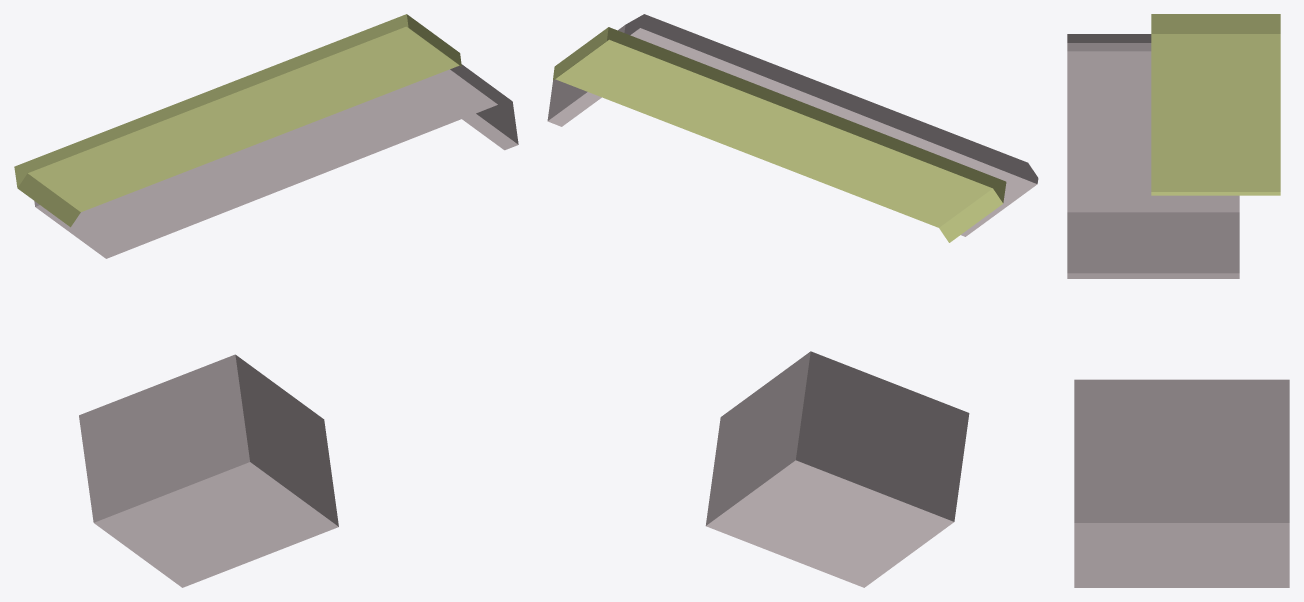
3 renders of one model, left to right at view 1: azimuth 30°, elevation 25°; view 2: azimuth 150°, elevation 25°; view 3: azimuth 270°, elevation 25°, orthographic. The views are drawn at different scales.
Parts seen in each view (by area): view 1: 0_1_3_2_1_1_1_3_2; view 2: 0_1_3_2_1_1_1_3_2; view 3: 0_1_3_2_1_1_1_3_2.
Boxes of the visible parts, x1,y1,x2,y2 form: 0_1_3_2_1_1_1_3_2: (14,14,518,587); 0_1_3_2_1_1_1_3_2: (547,14,1038,587); 0_1_3_2_1_1_1_3_2: (1067,14,1289,587).
Size of the model in its own units: 40.58 by 40.62 by 15.49.
